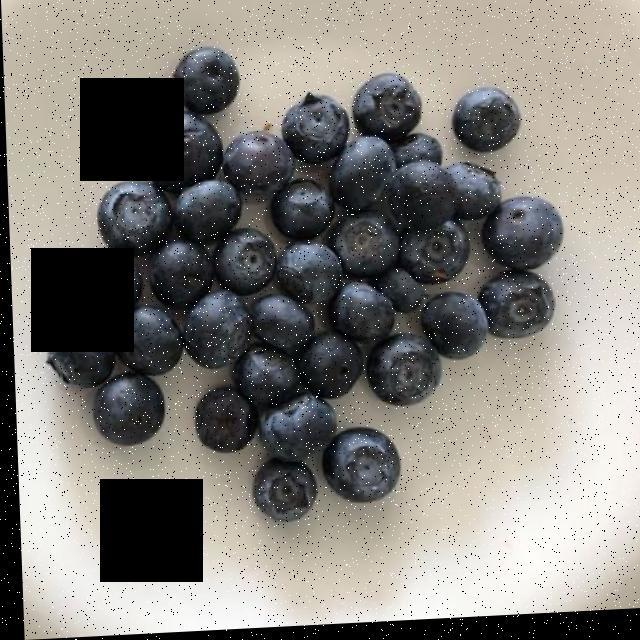blueberries: (76, 71, 562, 497)
